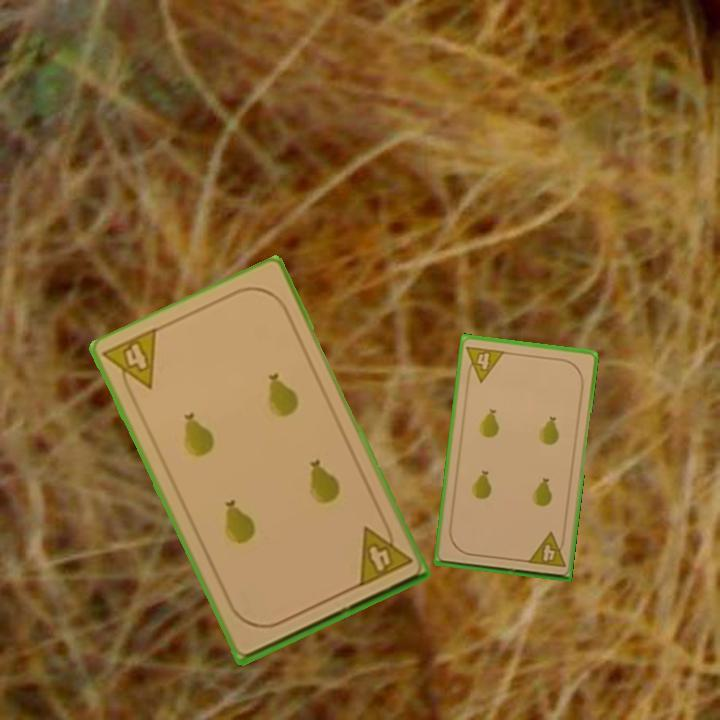4p: (99, 324, 160, 403), (354, 517, 415, 590), (463, 342, 508, 385), (524, 529, 568, 570)
